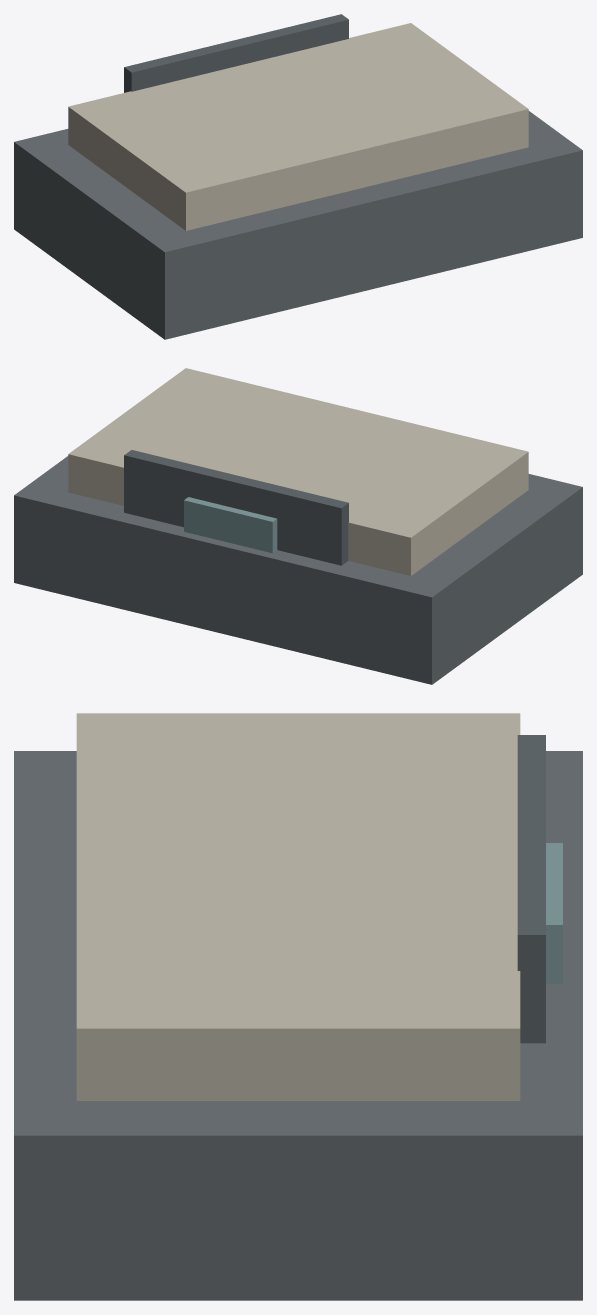
Rendered from iz3_production_planter_01.glb.
The picture shows the model from 3 angles, top to bottom: view 1: azimuth 30°, elevation 25°; view 2: azimuth 150°, elevation 25°; view 3: azimuth 270°, elevation 25°; orthographic projection. The views are drawn at different scales.
Parts seen in each view (by area): view 1: base, cabinet, panel; view 2: base, cabinet, panel, display; view 3: cabinet, base, panel, display.
Part boxes in pixels (bbox=[...]): base: bbox=[14, 111, 582, 339]; cabinet: bbox=[68, 23, 528, 230]; panel: bbox=[124, 14, 348, 92]; base: bbox=[14, 456, 582, 684]; cabinet: bbox=[68, 368, 528, 575]; panel: bbox=[124, 450, 348, 565]; display: bbox=[184, 497, 277, 553]; cabinet: bbox=[76, 713, 520, 1100]; base: bbox=[14, 751, 582, 1300]; panel: bbox=[517, 735, 545, 1043]; display: bbox=[546, 843, 562, 983].
Size of the model in its own units: 1.6 by 0.53 by 1.
